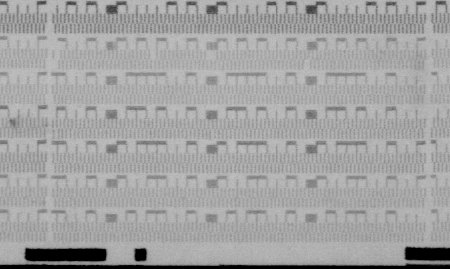Broken hole: (51, 52, 63, 70), (204, 50, 219, 64), (301, 59, 313, 72), (148, 48, 160, 60)
